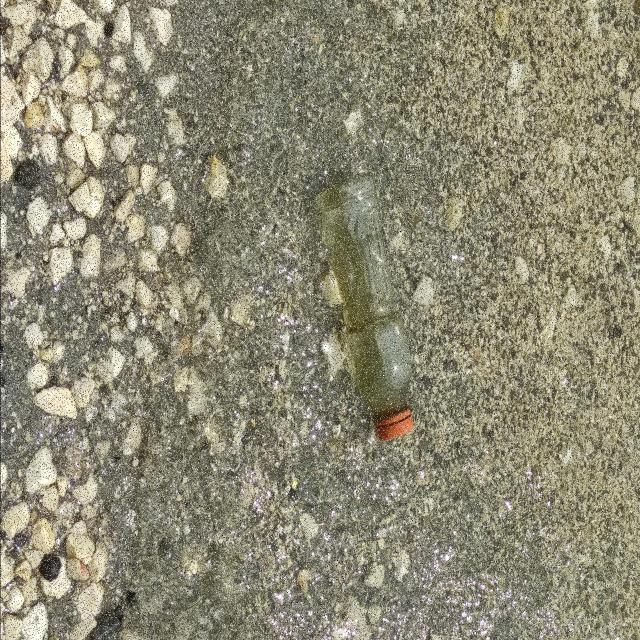plastic_waste: (315, 174, 414, 444)
